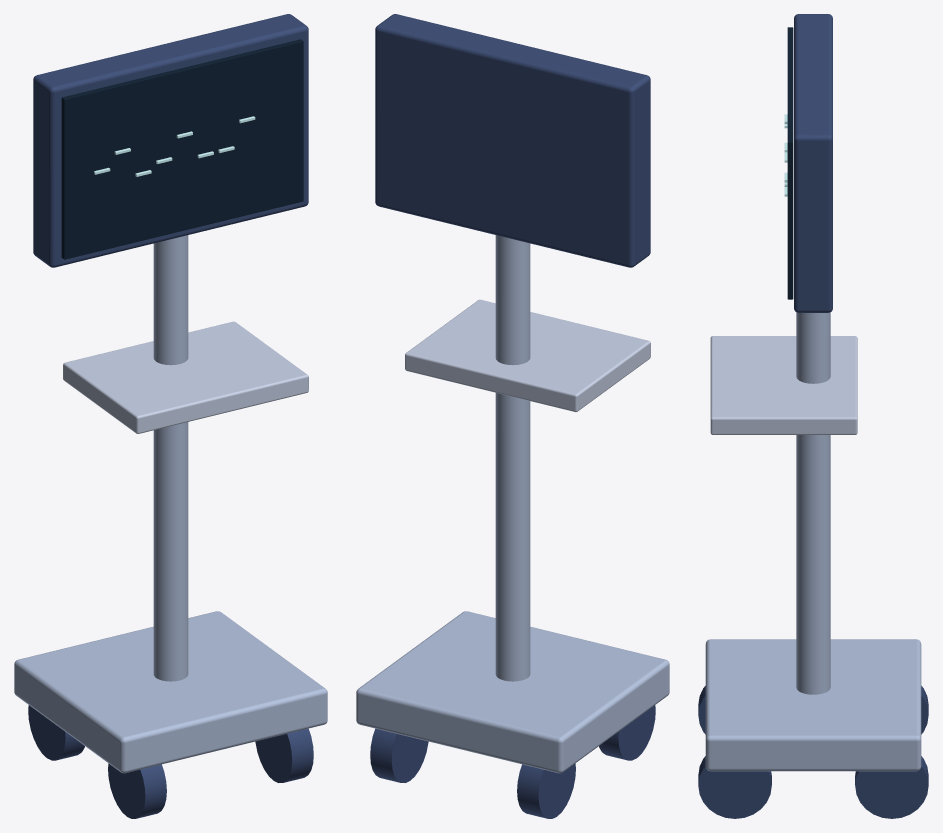
Rendered from monitor.glb.
3 renders of one model, left to right at view 1: azimuth 30°, elevation 25°; view 2: azimuth 150°, elevation 25°; view 3: azimuth 270°, elevation 25°, orthographic.
Visible parts, largest first — view 1: display glass, base, shelf, display frame, pole, caster (×3); view 2: display frame, base, shelf, pole, caster (×3); view 3: base, shelf, display frame, pole, caster (×2), display glass.
Part boxes in pixels (x1,y1,x2,y2): display glass: (61, 39, 303, 259); base: (14, 611, 327, 773); shelf: (63, 321, 308, 433); display frame: (33, 14, 308, 267); pole: (153, 235, 188, 681); caster (×3): (28, 705, 313, 818); display frame: (375, 14, 650, 267); base: (356, 611, 669, 773); shelf: (405, 299, 650, 412); pole: (495, 235, 530, 681); caster (×3): (370, 705, 655, 818); base: (705, 639, 921, 771); shelf: (710, 336, 857, 434); display frame: (794, 14, 832, 312); pole: (796, 312, 830, 694); caster (×2): (698, 756, 928, 818); display glass: (787, 27, 793, 299).
Bounding box in the file's own units: 0.6 × 1.59 × 0.47.
